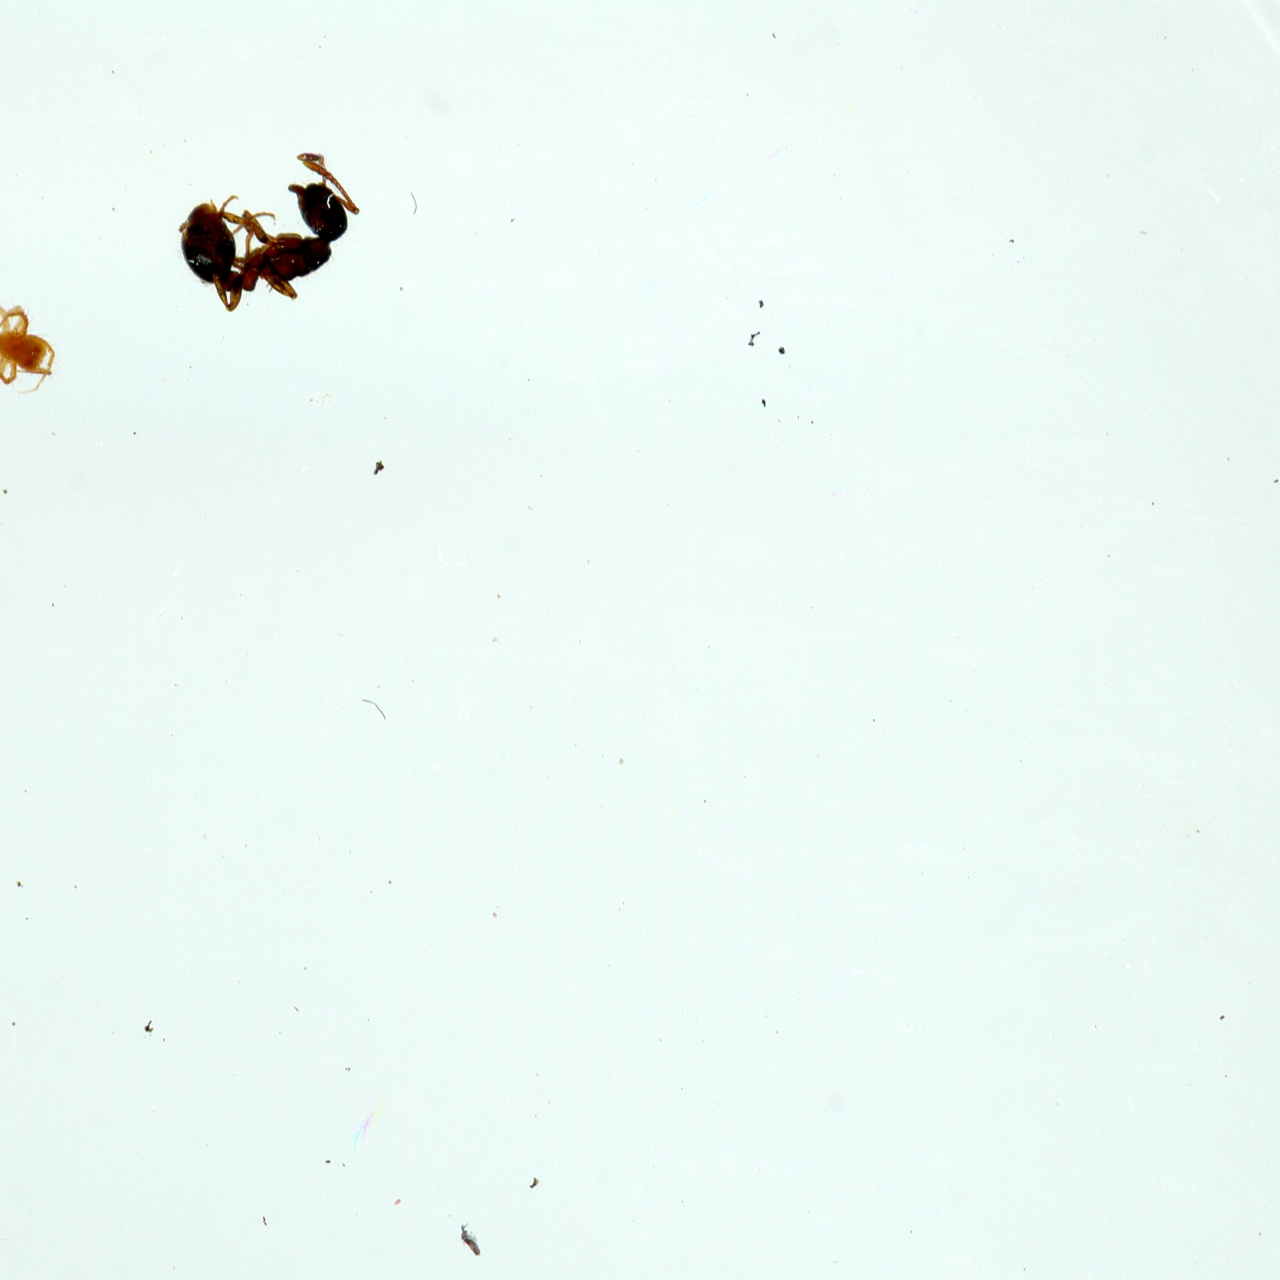arthropod: (173, 145, 363, 315), (0, 301, 61, 397), (450, 1216, 493, 1267)
